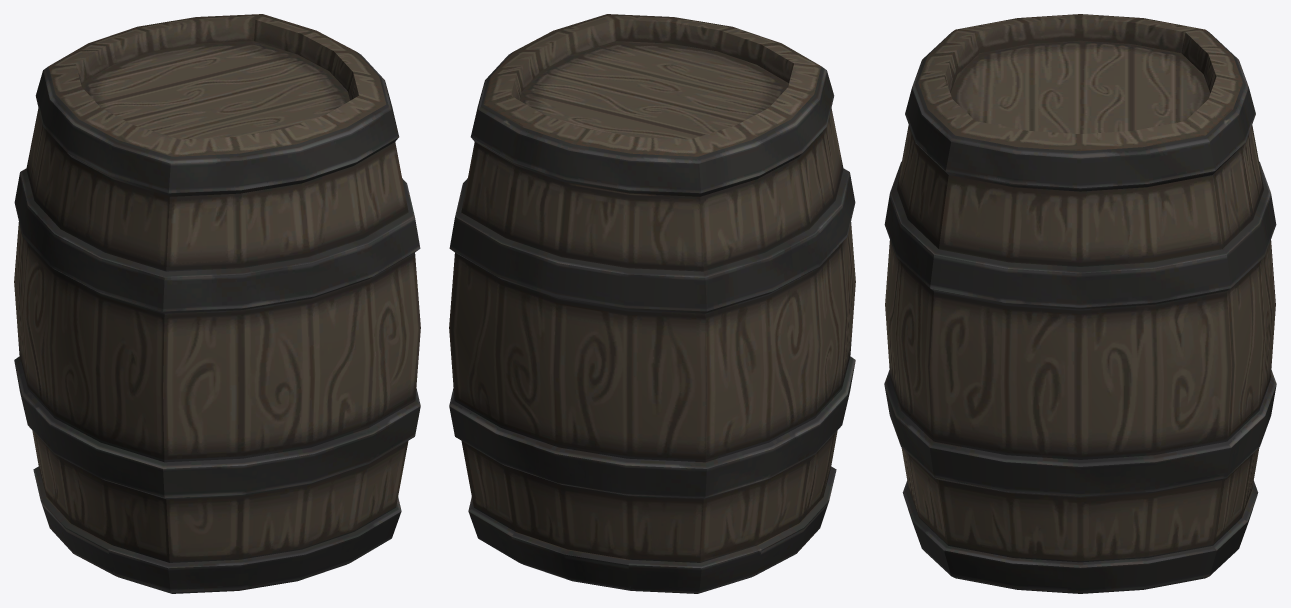
Rendered from barrel faded.glb.
3 views of the same model, side by side, from view 1: azimuth 30°, elevation 25°; view 2: azimuth 150°, elevation 25°; view 3: azimuth 270°, elevation 25° (orthographic).
Parts seen in each view (by area): view 1: WineBarrel_LOD0; view 2: WineBarrel_LOD0; view 3: WineBarrel_LOD0.
Boxes of the visible parts, x1,y1,x2,y2 form: WineBarrel_LOD0: (14, 14, 420, 593); WineBarrel_LOD0: (449, 14, 855, 593); WineBarrel_LOD0: (884, 14, 1276, 593).
Size of the model in its own units: 0.7369 by 0.9296 by 0.7369.
1 material, 1 textured.
